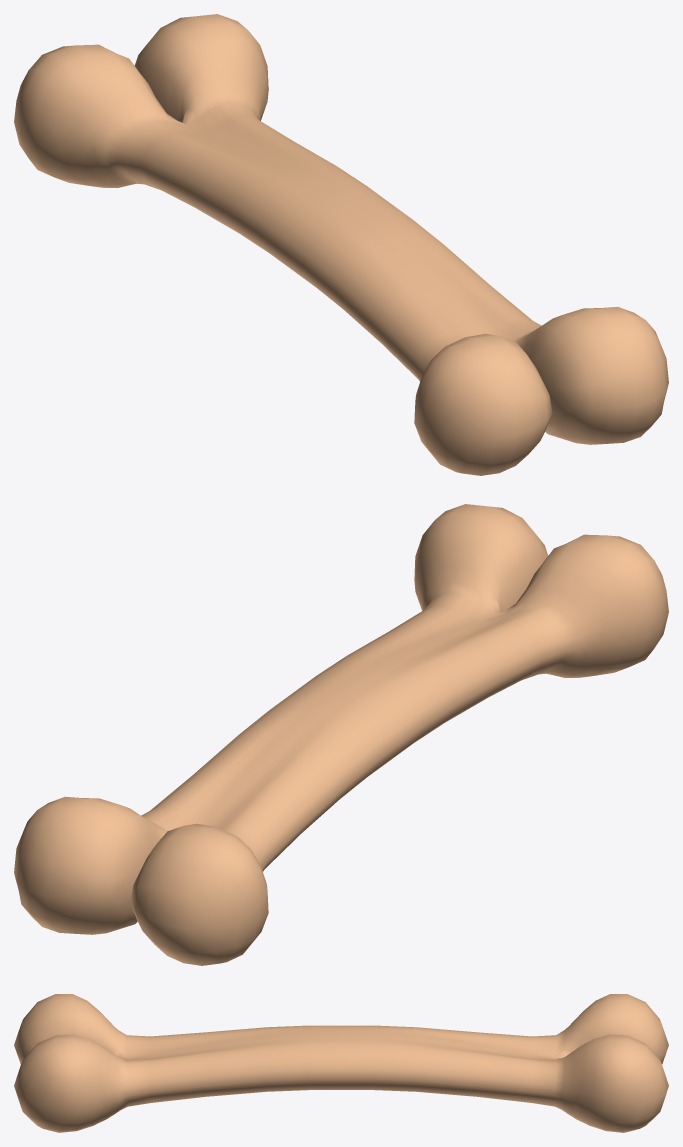
File: bone.glb
3 views of the same model, one above another, from view 1: azimuth 30°, elevation 25°; view 2: azimuth 150°, elevation 25°; view 3: azimuth 270°, elevation 25° (orthographic). The views are drawn at different scales.
Parts seen in each view (by area): view 1: pCube8; view 2: pCube8; view 3: pCube8.
Part boxes in pixels (x1,y1,x2,y2): pCube8: [14, 14, 668, 475]; pCube8: [14, 504, 668, 965]; pCube8: [14, 994, 668, 1132].
Bounding box in the file's own units: 0.0465 × 0.0237 × 0.1606.
